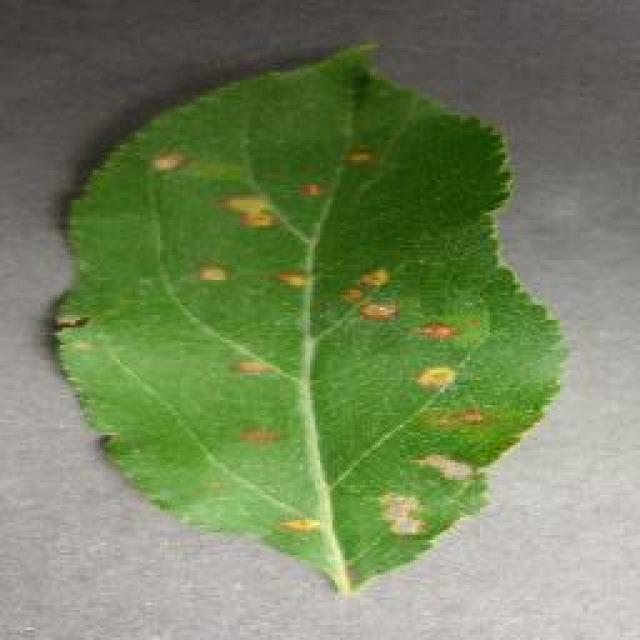apple healthy: (45, 38, 570, 598)
